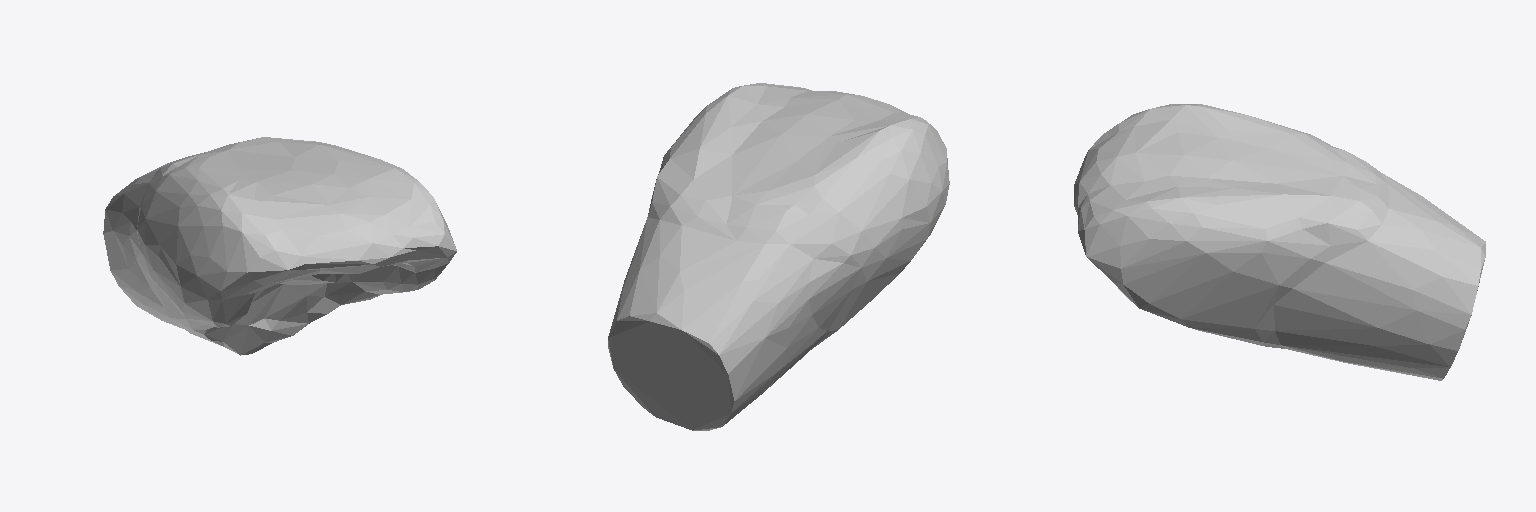
File: local_t11_7780_si.OBJ
The picture shows the model from 3 angles: view 1: azimuth 30°, elevation 25°; view 2: azimuth 150°, elevation 25°; view 3: azimuth 270°, elevation 25°; orthographic projection.
Parts seen in each view (by area): view 1: Group13348; view 2: Group13348; view 3: Group13348.
Boxes of the visible parts, x1=… form: Group13348: x1=103, y1=137, x2=456, y2=355; Group13348: x1=608, y1=83, x2=949, y2=430; Group13348: x1=1074, y1=104, x2=1485, y2=380.
Bounding box in the file's own units: 8.9 × 8.17 × 13.36.